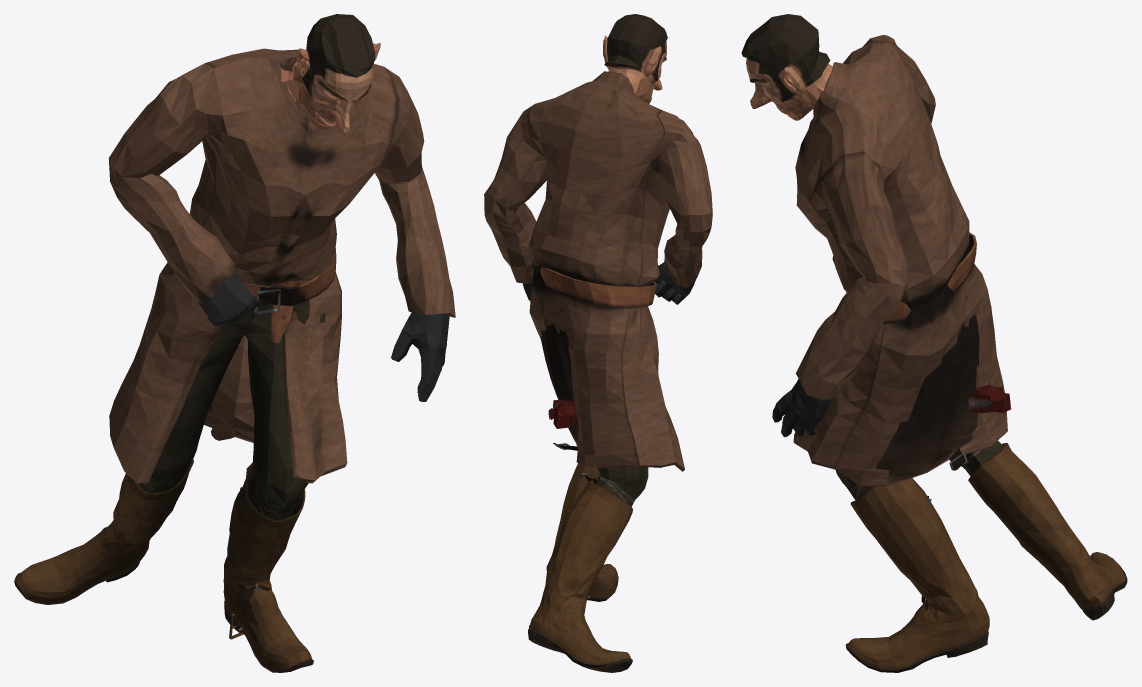
The model's file is sniper01_000022.obj.
The picture shows the model from 3 angles, left to right: view 1: azimuth 30°, elevation 25°; view 2: azimuth 150°, elevation 25°; view 3: azimuth 270°, elevation 25°; orthographic projection. The views are drawn at different scales.
Visible parts, largest first — view 1: Tops, Shoes, Bottoms, BodyParts; view 2: Tops, Shoes, BodyParts, Bottoms; view 3: Tops, Shoes, BodyParts, Bottoms.
Part boxes in pixels (x1=…): Tops: x1=108, y1=48, x2=455, y2=631; Shoes: x1=14, y1=458, x2=313, y2=672; Bottoms: x1=138, y1=297, x2=325, y2=639; BodyParts: x1=198, y1=14, x2=449, y2=401; Tops: x1=484, y1=71, x2=712, y2=598; Shoes: x1=528, y1=463, x2=632, y2=672; BodyParts: x1=522, y1=14, x2=695, y2=428; Bottoms: x1=594, y1=466, x2=648, y2=506; Tops: x1=793, y1=35, x2=1007, y2=610; Shoes: x1=845, y1=443, x2=1127, y2=672; BodyParts: x1=741, y1=14, x2=1011, y2=437; Bottoms: x1=835, y1=441, x2=1003, y2=656.
Bounding box in the file's own units: 1.08 × 2.38 × 1.29.
